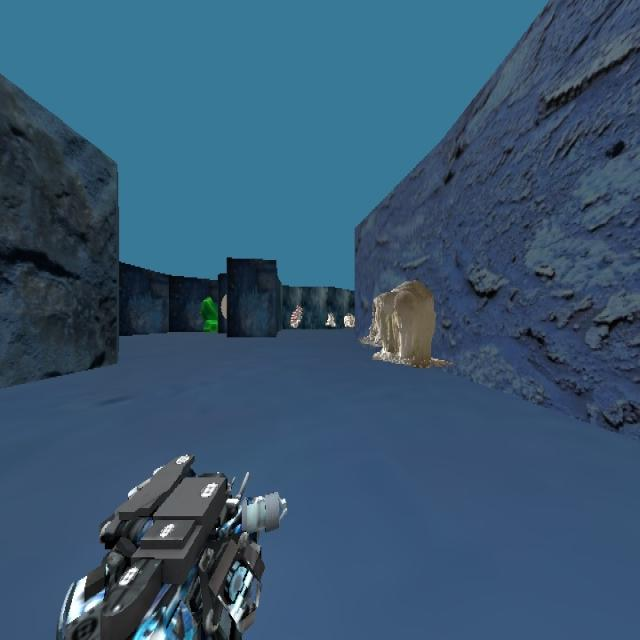Circle: (222, 287, 234, 338)
Diamon: (192, 287, 219, 338)
Ice: (368, 277, 436, 367)
Mushroom: (291, 294, 306, 331)
